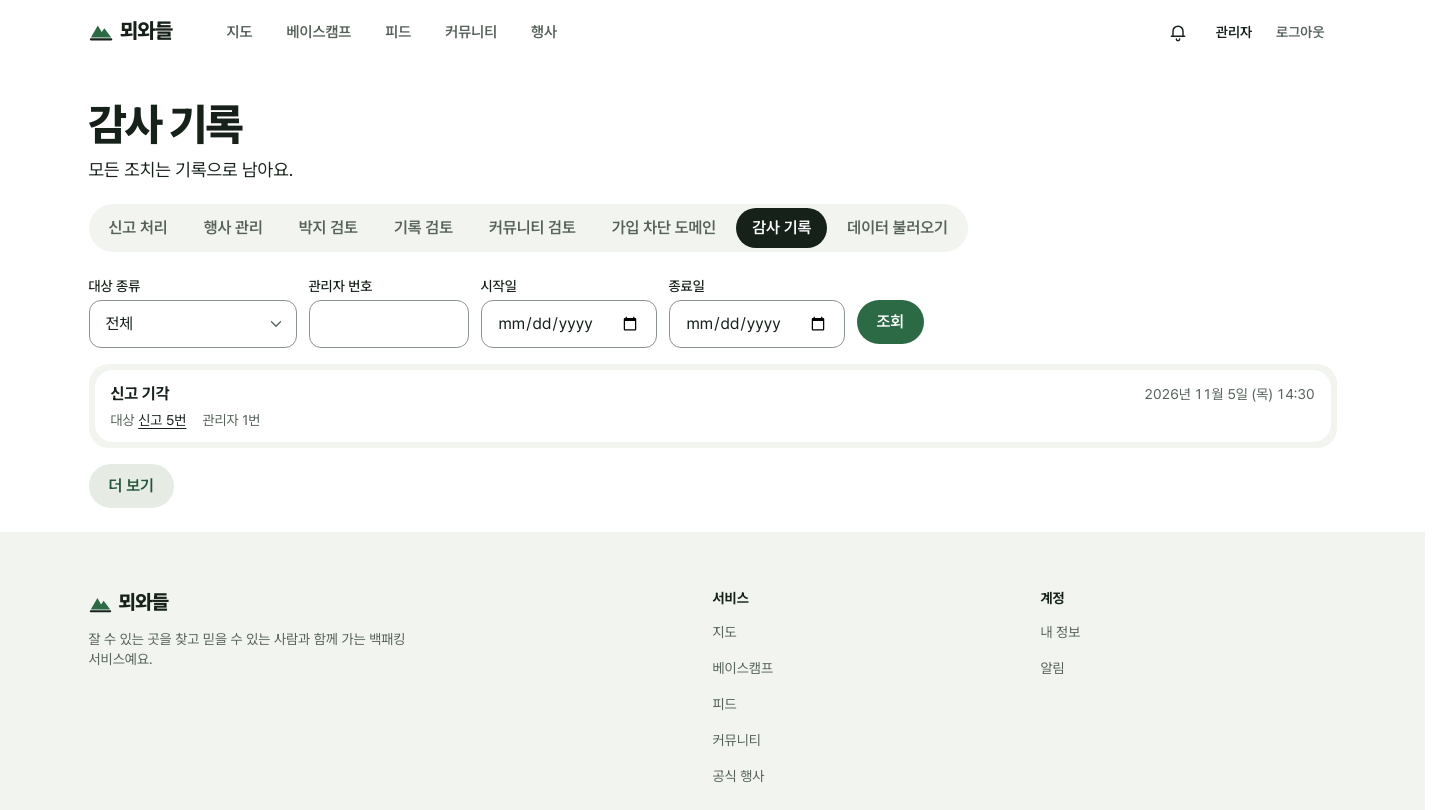
Scenario: 관리자 감사 기록 화면 › 더 보기를 누르면 다음 쪽을 이어 붙인다
Click the button "더 보기" at (131, 486), box [88,464,174,508]
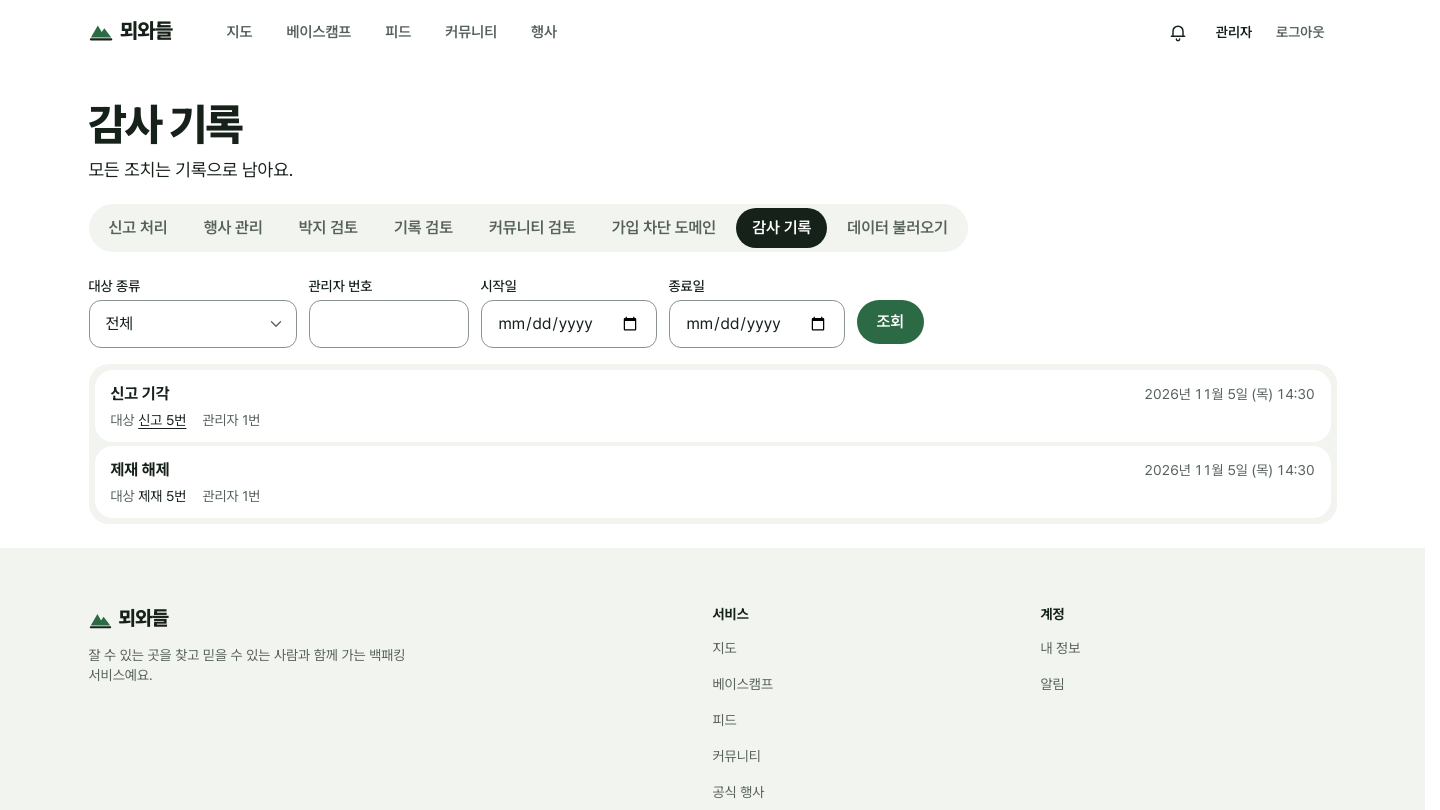
Expected: the text "신고 기각" is shown, [110,382,170,406]
Expected: the text "제재 해제" is shown, [110,458,170,482]
